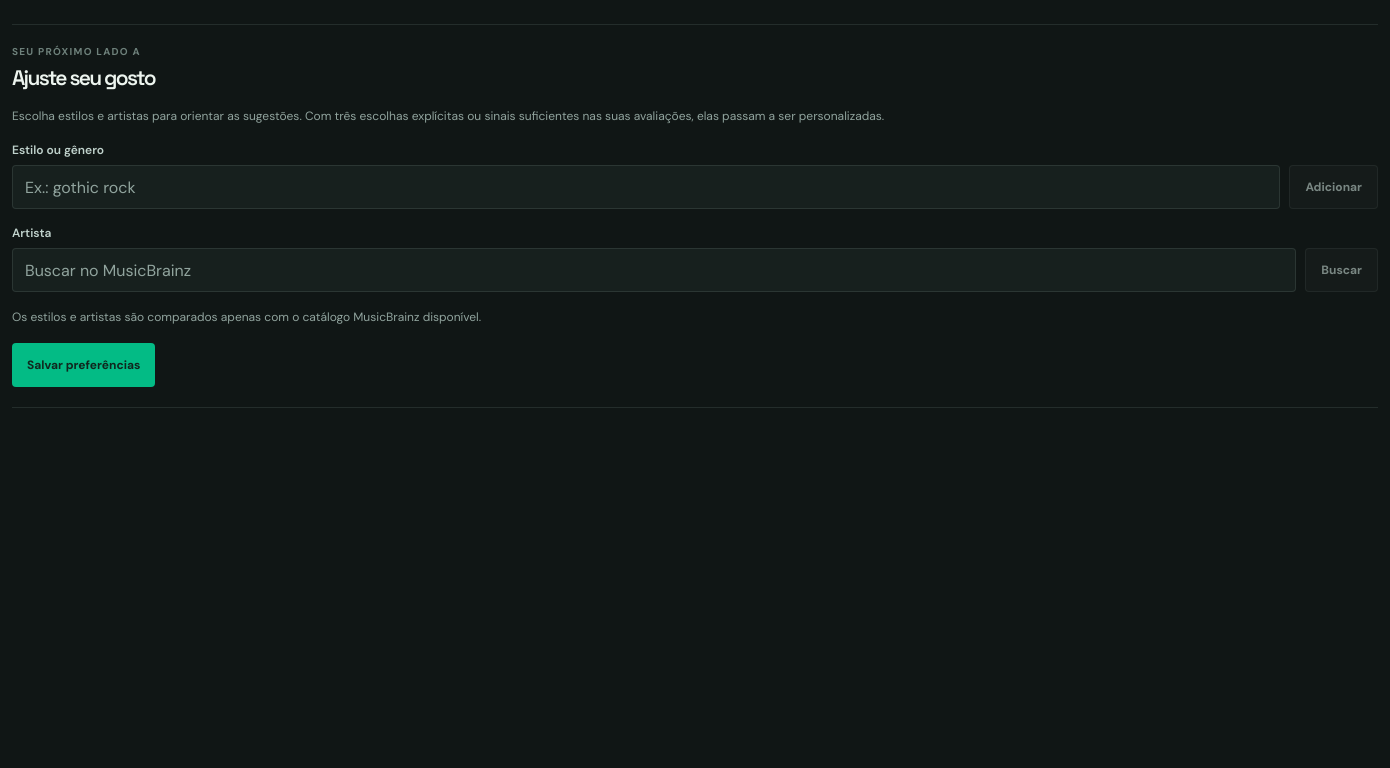
Test: RecommendationPreferencesPanel › saves explicit genres and a MusicBrainz artist selection
In the field labelled "Estilo ou gênero": coordinates (646, 187) [12,165,1280,209], type "Gothic Rock"
Click the button "Adicionar": coordinates (1334, 187) [1289,165,1378,209]
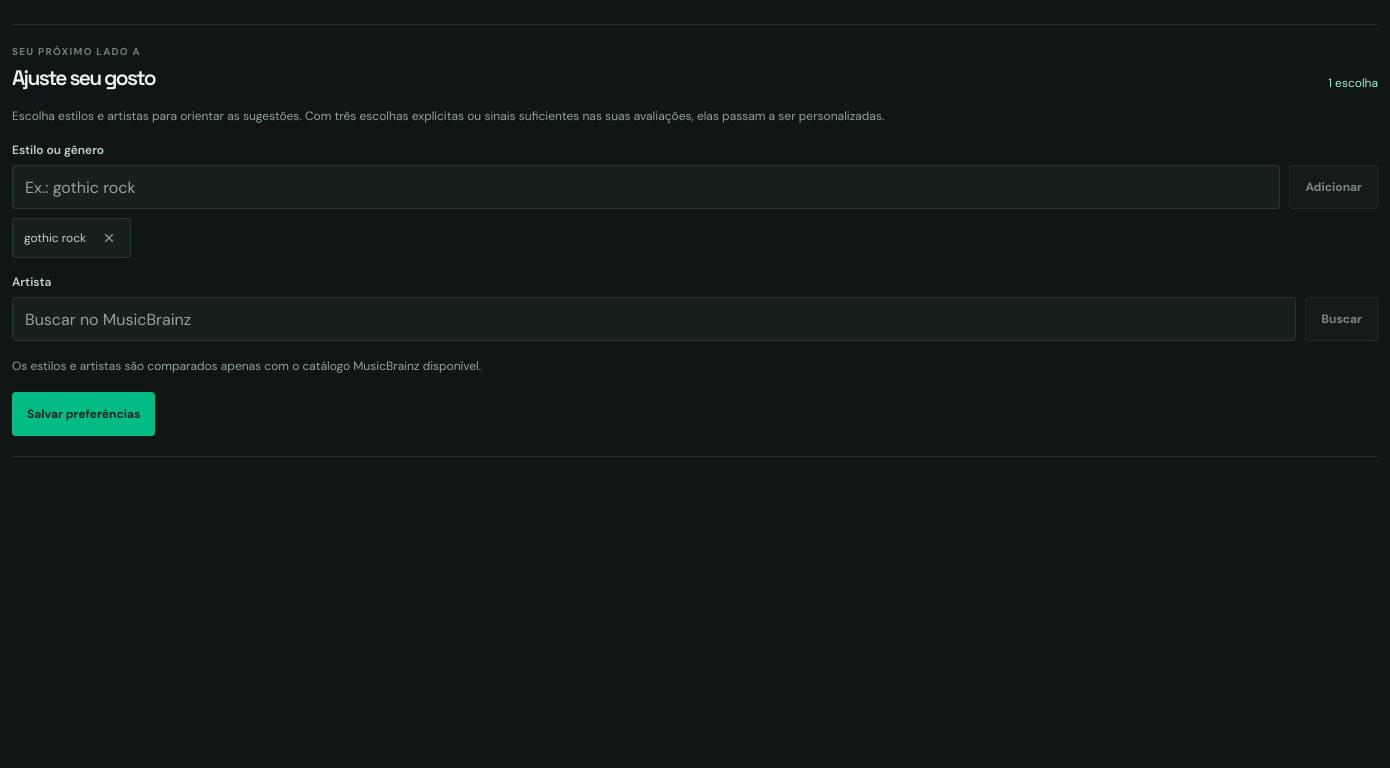
In the field labelled "Estilo ou gênero": coordinates (646, 187) [12,165,1280,209], type "Darkwave"
Click the button "Adicionar": coordinates (1334, 187) [1289,165,1378,209]
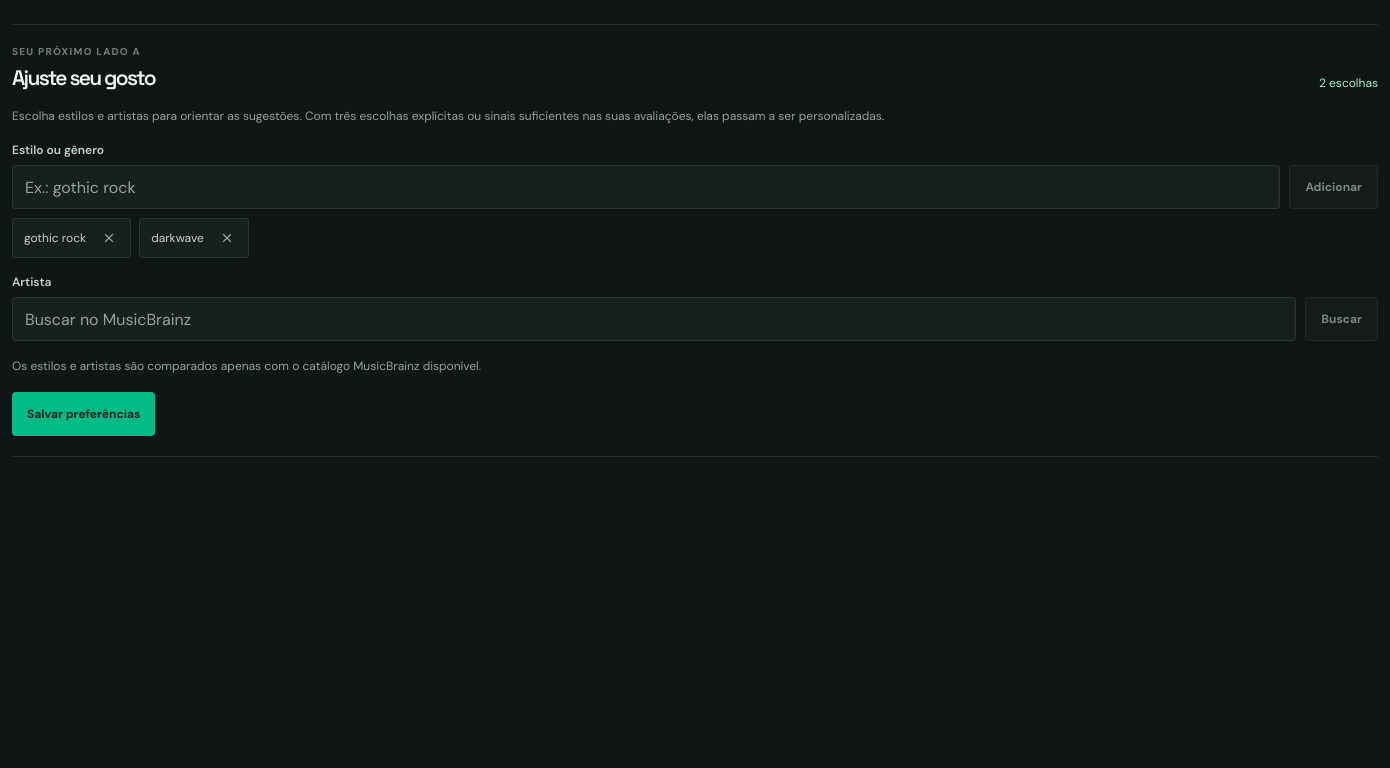
In the field labelled "Artista": coordinates (654, 319) [12,297,1296,341], type "Bauhaus"
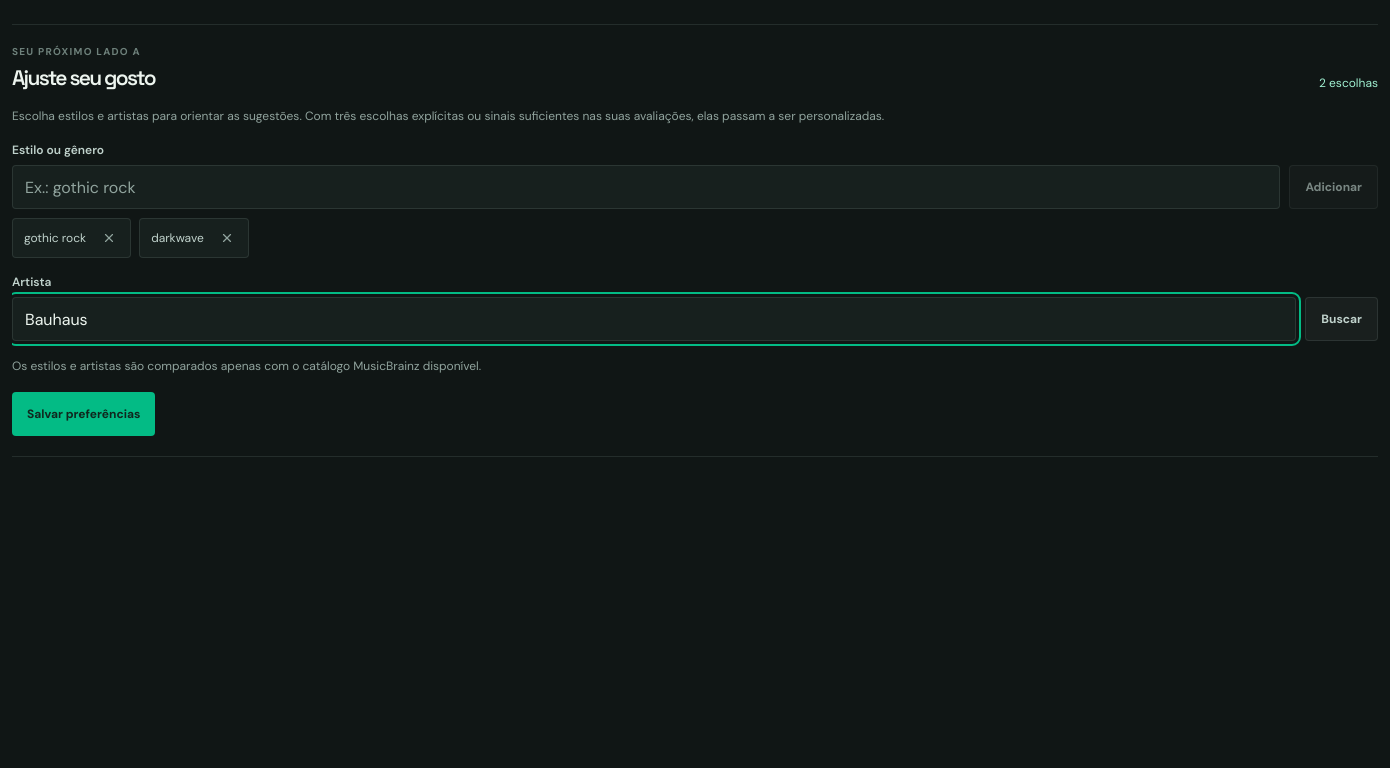
Click the button "Buscar": coordinates (1342, 319) [1305,297,1378,341]
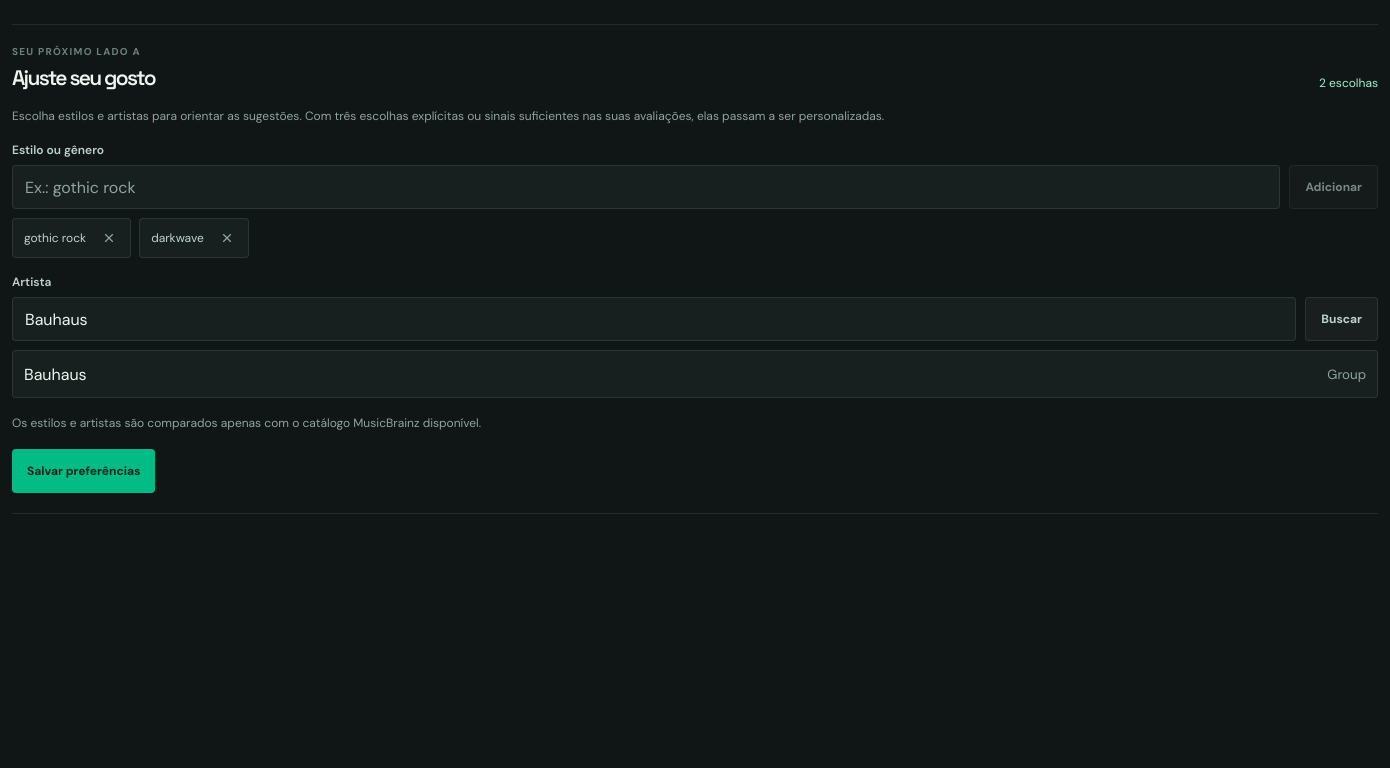
Click the button "Bauhaus Group": coordinates (55, 374) [12,350,1378,398]
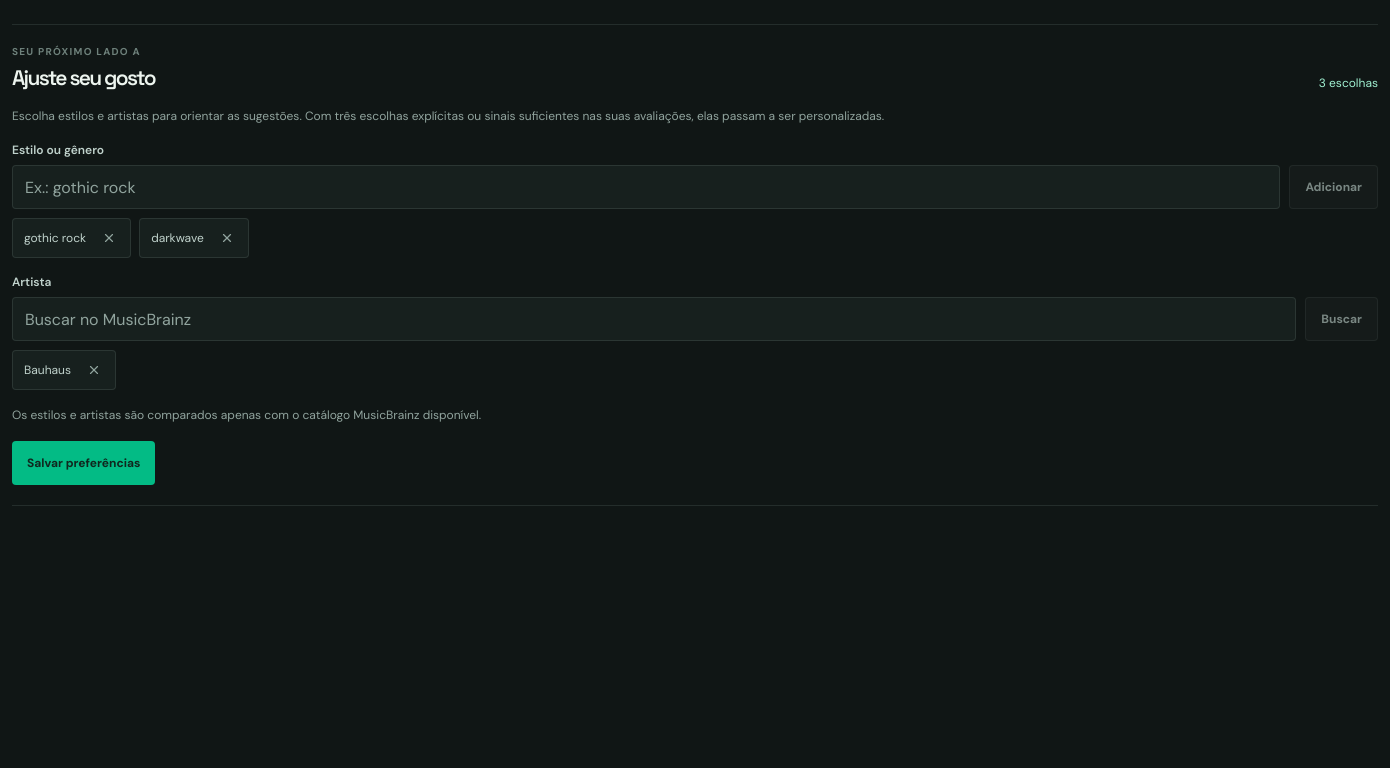
Click the button "Salvar preferências": coordinates (84, 463) [12,441,155,485]
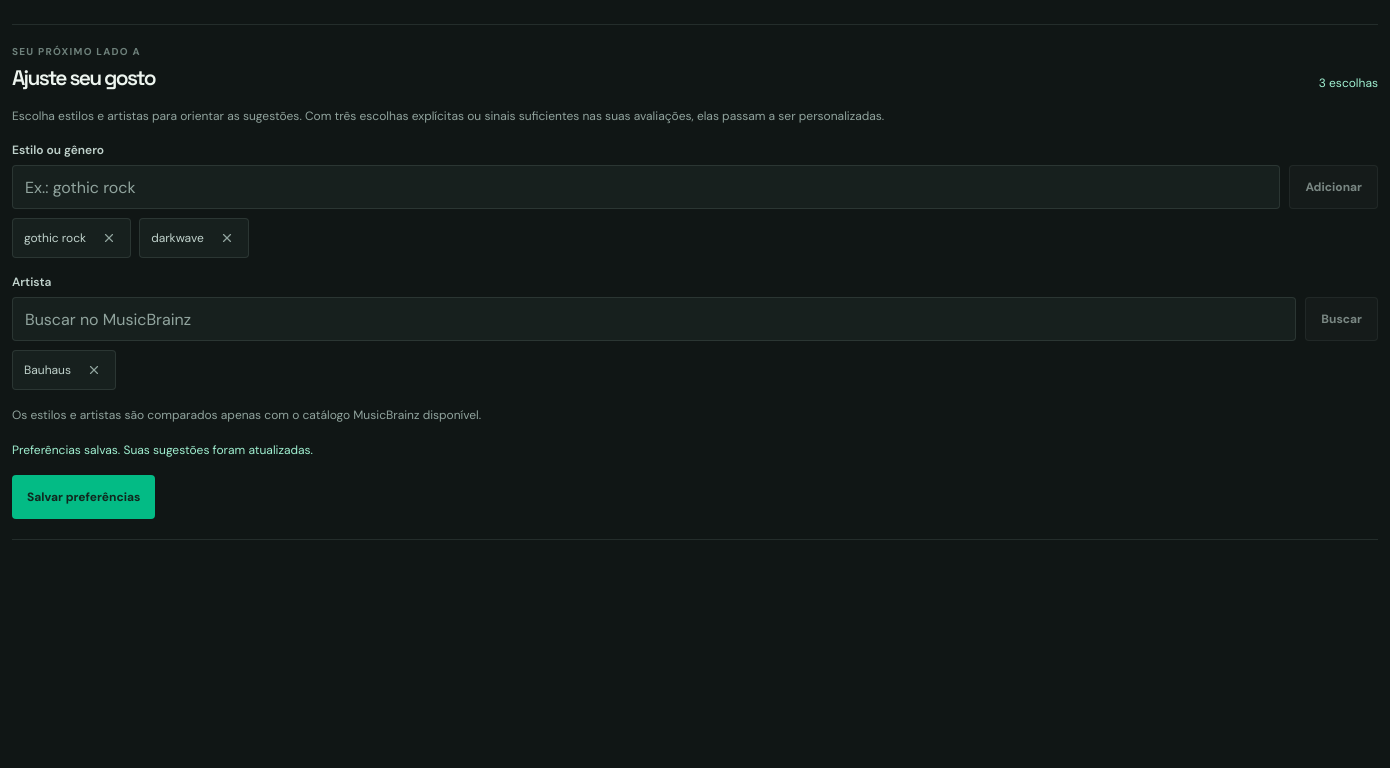
Check: the message shows "Preferências salvas.", box [12,442,313,458]
